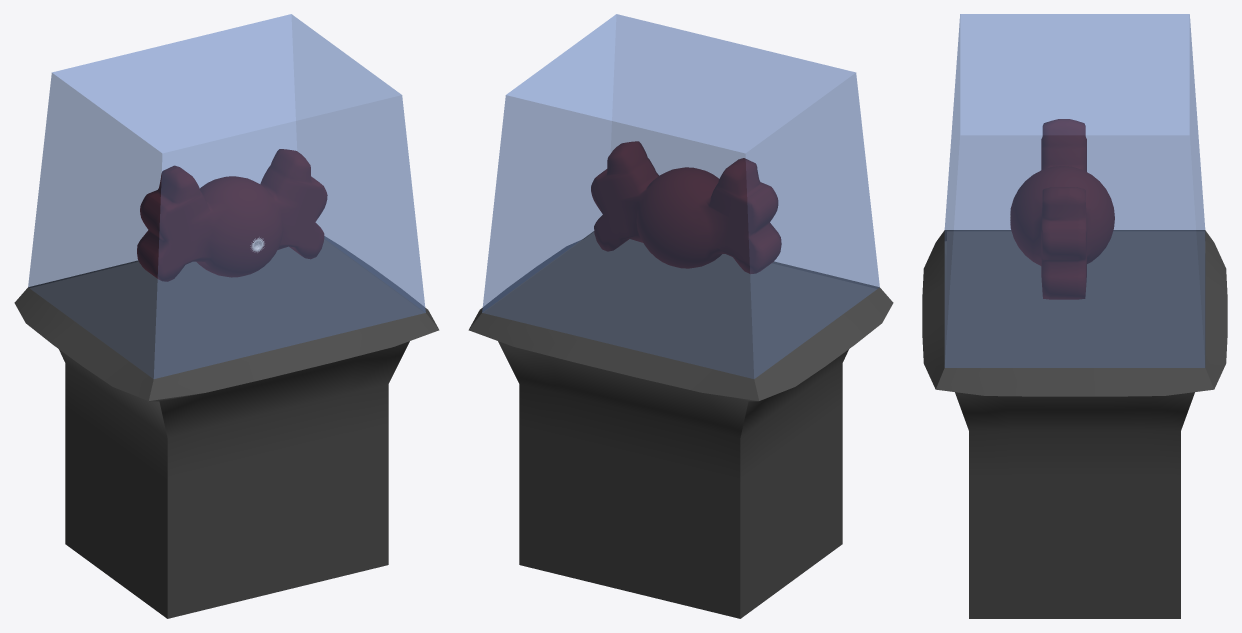
The model's file is ChucheRojaCaja.fbx.
The picture shows the model from 3 angles, left to right: view 1: azimuth 30°, elevation 25°; view 2: azimuth 150°, elevation 25°; view 3: azimuth 270°, elevation 25°; orthographic projection. The views are drawn at different scales.
Parts seen in each view (by area): view 1: Box001, Plane001, Box002; view 2: Box001, Plane001, Box002; view 3: Box001, Plane001, Box002.
Part boxes in pixels (x1,y1,x2,y2): Box001: (14,14,439,618); Plane001: (30,239,423,378); Box002: (137,149,327,281); Box001: (468,14,893,618); Plane001: (484,232,876,378); Box002: (591,141,781,273); Box001: (922,14,1227,618); Plane001: (947,231,1204,367); Box002: (1010,119,1114,299).
Bounding box in the file's own units: 28.33 × 39.97 × 22.66.
